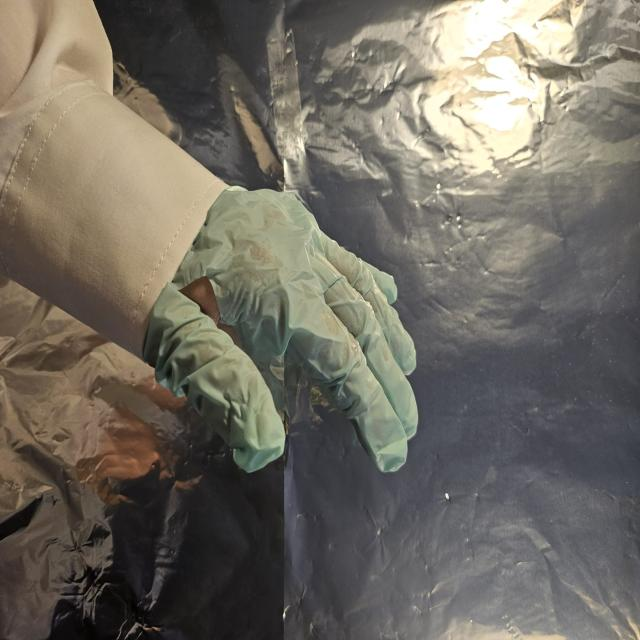gloves_damaged: (130, 187, 420, 476)
